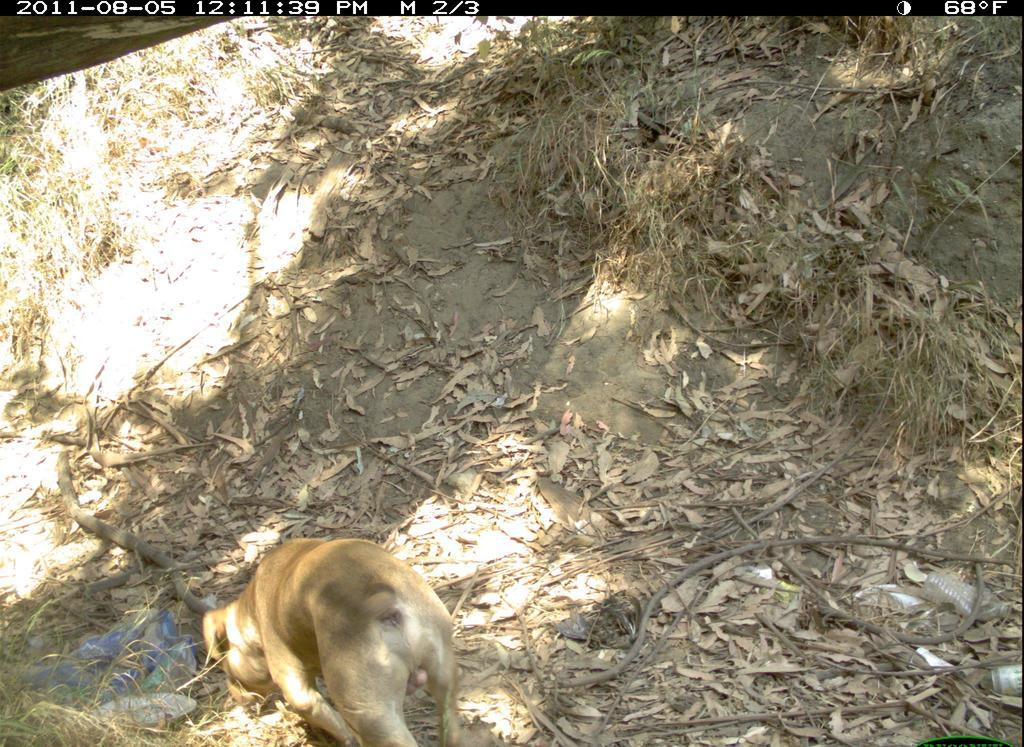dog: (167, 528, 504, 743)
